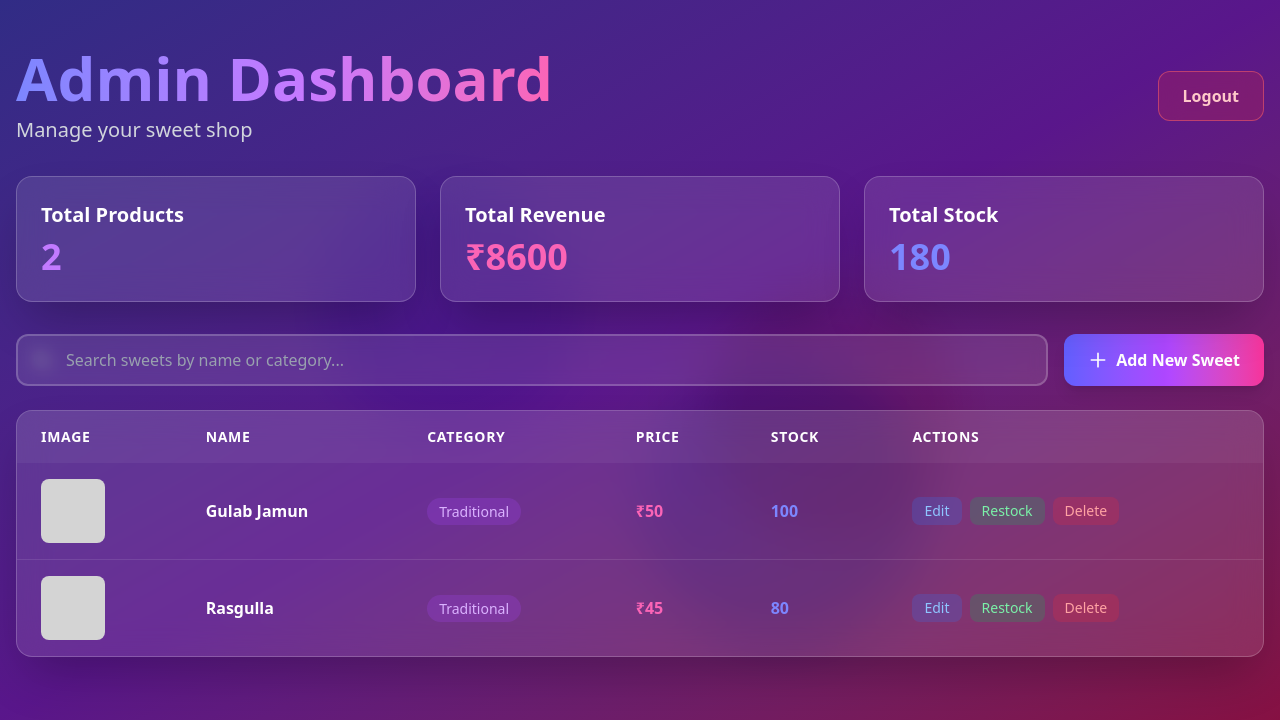
Scenario: DashboardContent - Restock Sweet › displays current stock in restock modal
This screenshot has width=1280, height=720.
Expected: the text "Rasgulla" is shown, [182,560,403,656]
Click the button "Restock" in the row of "Rasgulla" at (1007, 608), box [970,594,1044,622]
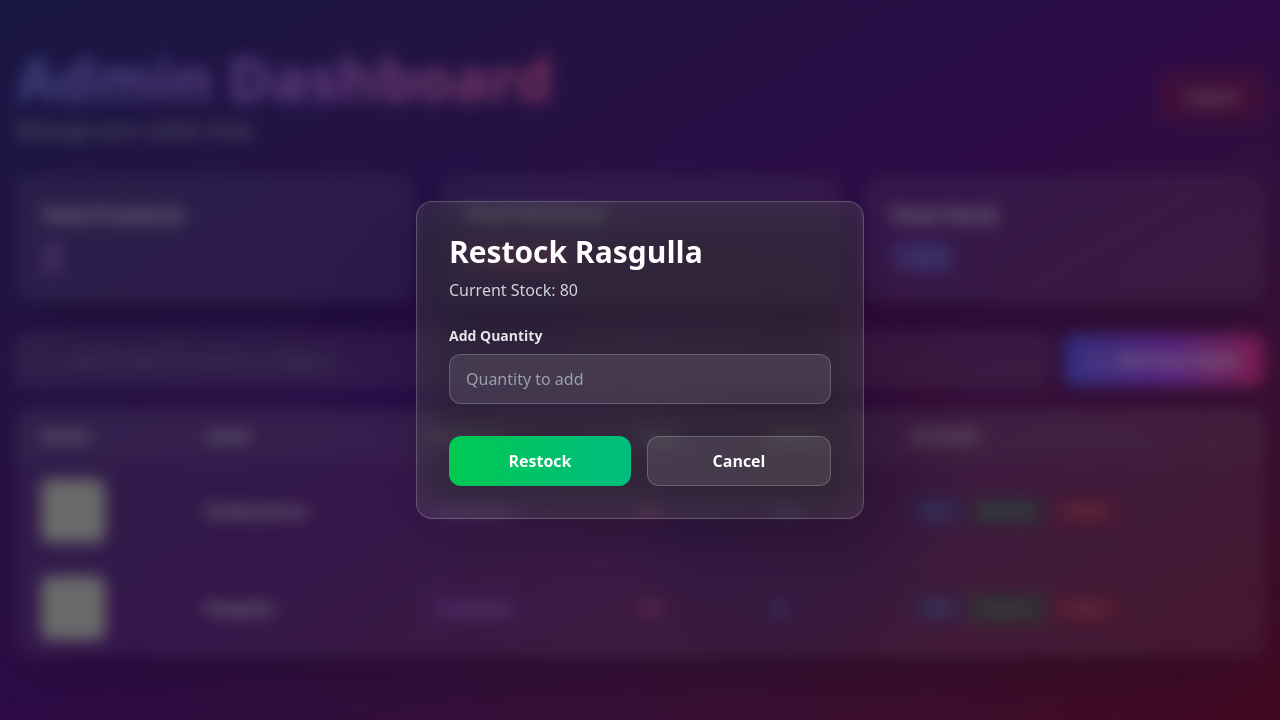
Expected: the heading "Restock Rasgulla" is shown, [449,231,703,272]
Expected: the text "Current Stock: 80" is shown, [449,279,578,301]
